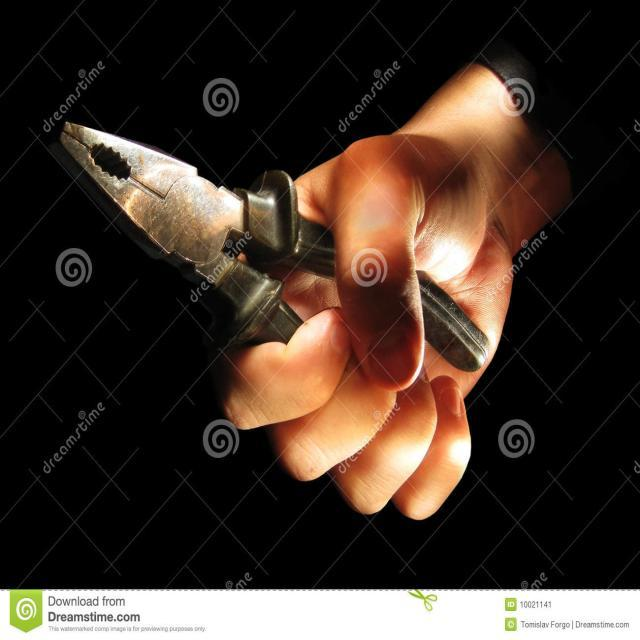pliers: (52, 114, 492, 431)
